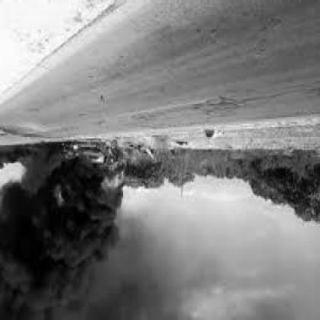Fire: (92, 144, 138, 202)
Smoke: (3, 168, 103, 318)
